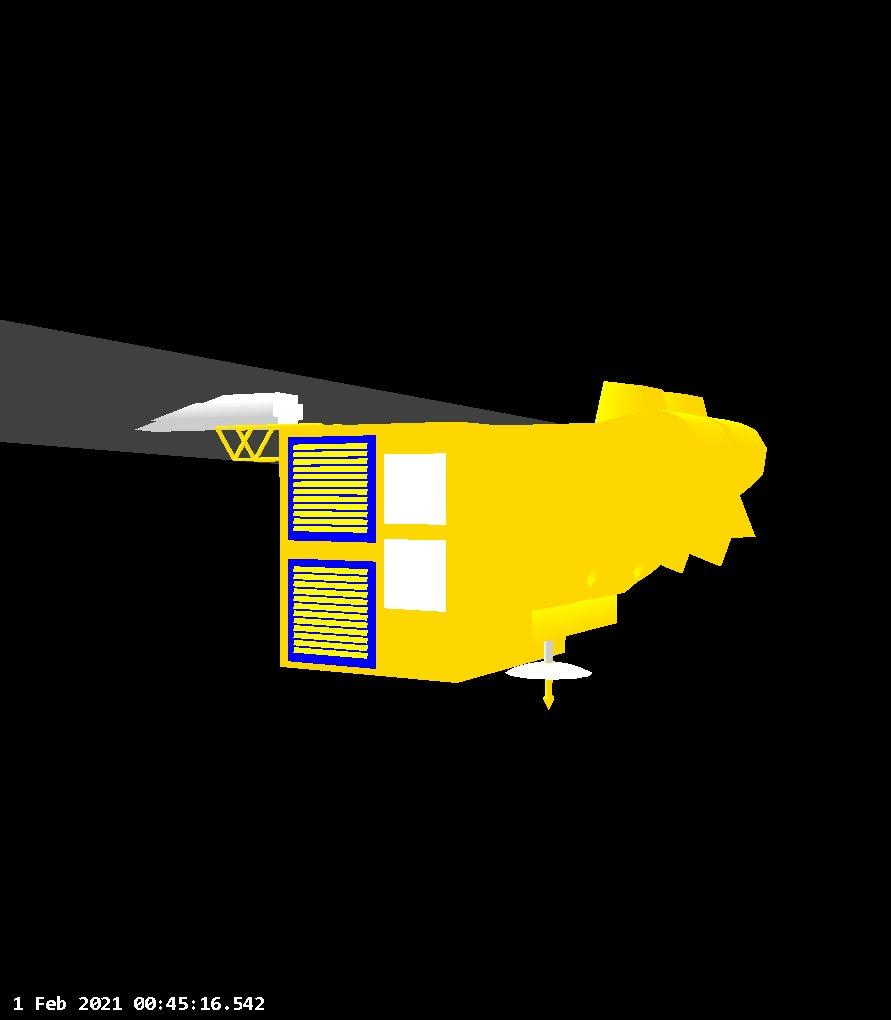antenna: (502, 634, 596, 710)
body: (266, 394, 762, 690)
solar: (0, 312, 602, 478)
